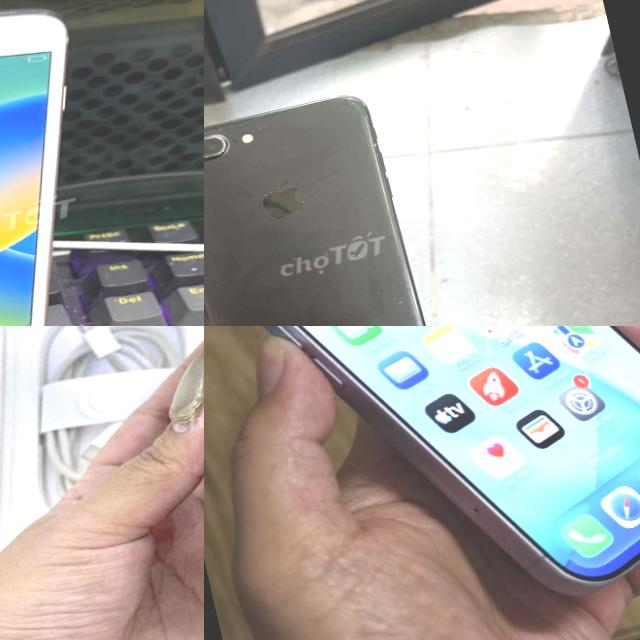scratch: (204, 108, 278, 172), (245, 170, 312, 228), (370, 269, 420, 314), (335, 86, 375, 123), (357, 118, 382, 162), (402, 308, 439, 326)
